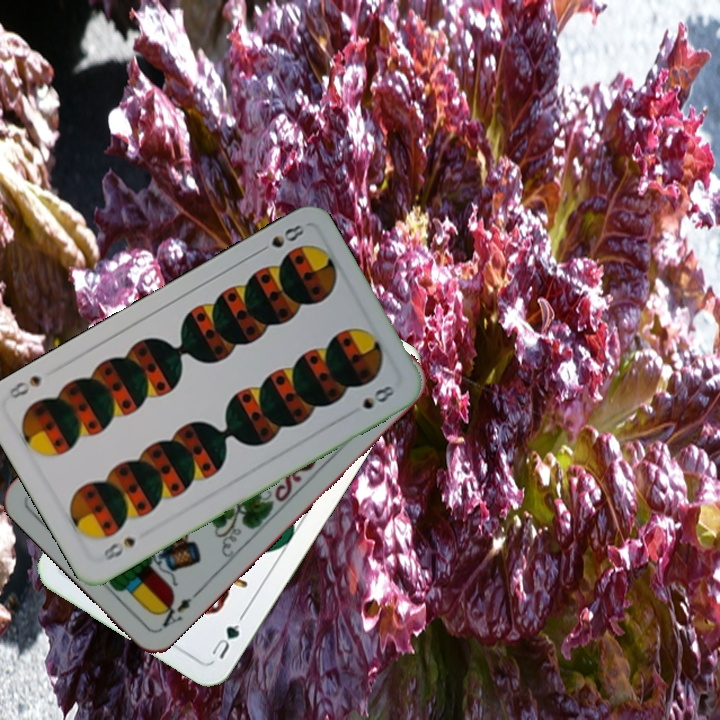EA: (153, 587, 202, 633)
GU: (207, 611, 247, 662)
S8: (252, 220, 308, 257), (99, 533, 139, 564)
